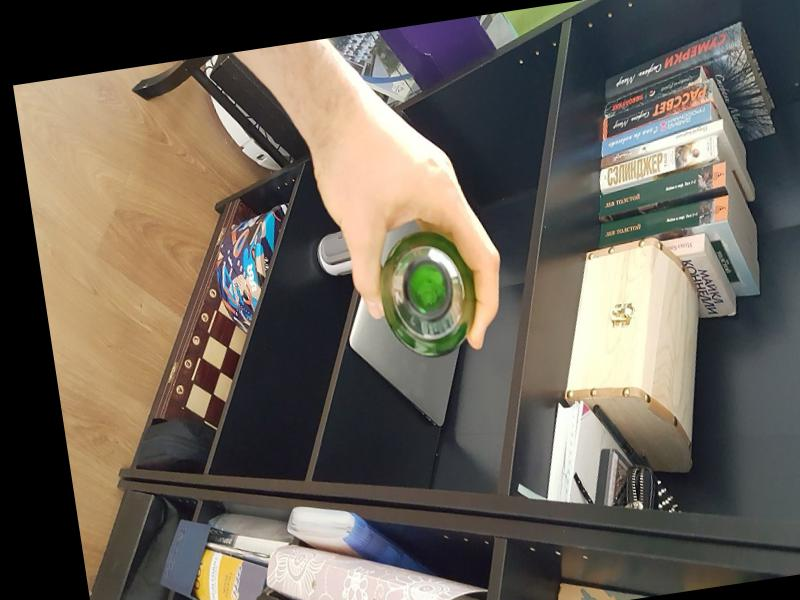Beer: (371, 228, 482, 356)
